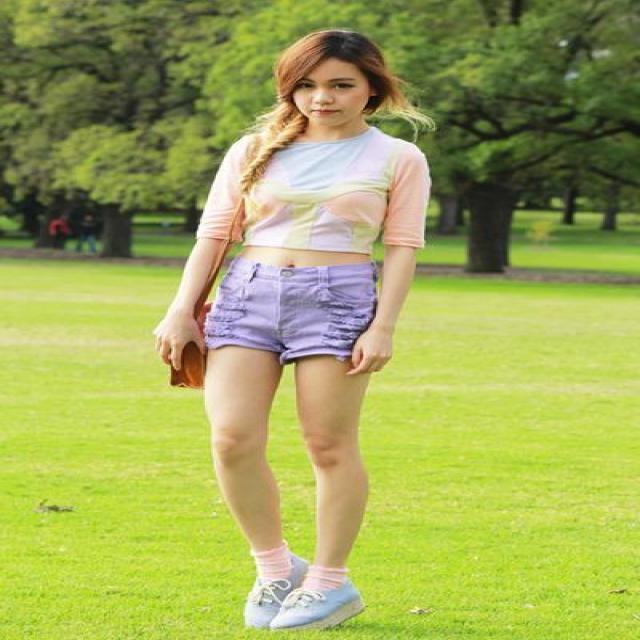bag: (166, 269, 218, 385)
shirt: (197, 127, 430, 252)
shoe: (243, 540, 362, 627)
shorts: (203, 257, 376, 387)
